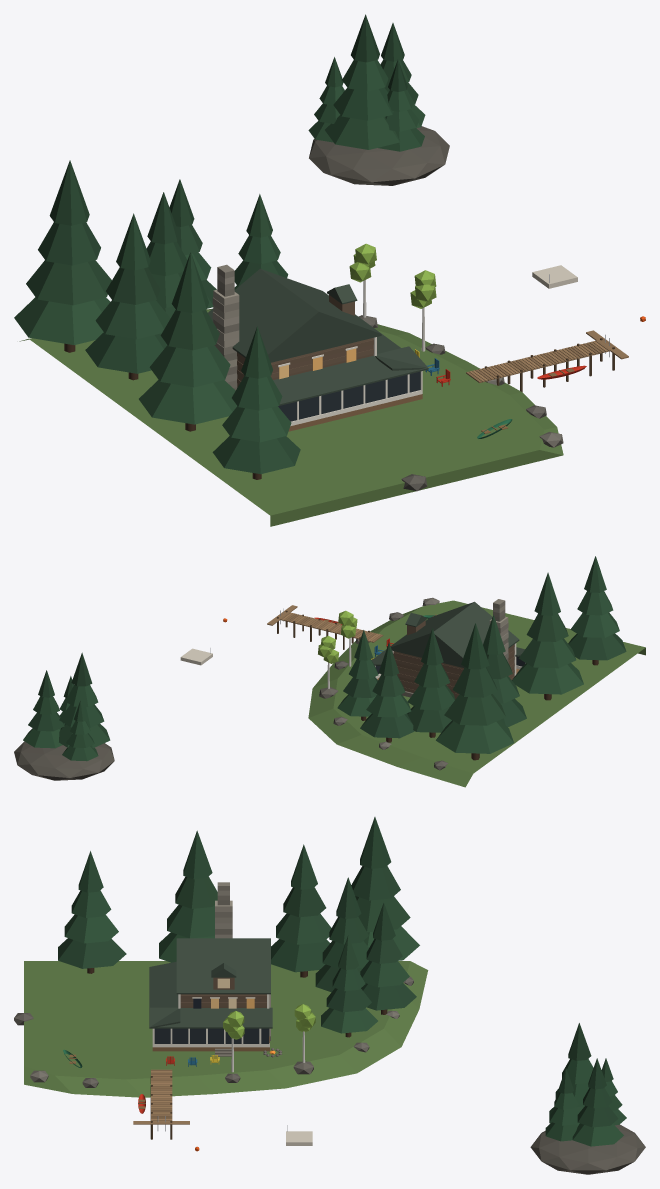
The model's file is lake.glb.
3 views of the same model, one above another, from view 1: azimuth 30°, elevation 25°; view 2: azimuth 150°, elevation 25°; view 3: azimuth 270°, elevation 25° (orthographic). The views are drawn at different scales.
Parts seen in each view (by area): view 1: shore, lakehouse; view 2: shore, lakehouse; view 3: shore, lakehouse.
Part boxes in pixels (box(x1,y1,x2,y2)): shore: box(14, 14, 645, 526); lakehouse: box(208, 264, 428, 431); shore: box(14, 556, 645, 787); lakehouse: box(371, 599, 525, 699); shore: box(14, 817, 645, 1174); lakehouse: box(149, 882, 272, 1056).
Bounding box in the file's own units: 57.15 × 21.27 × 71.11.
